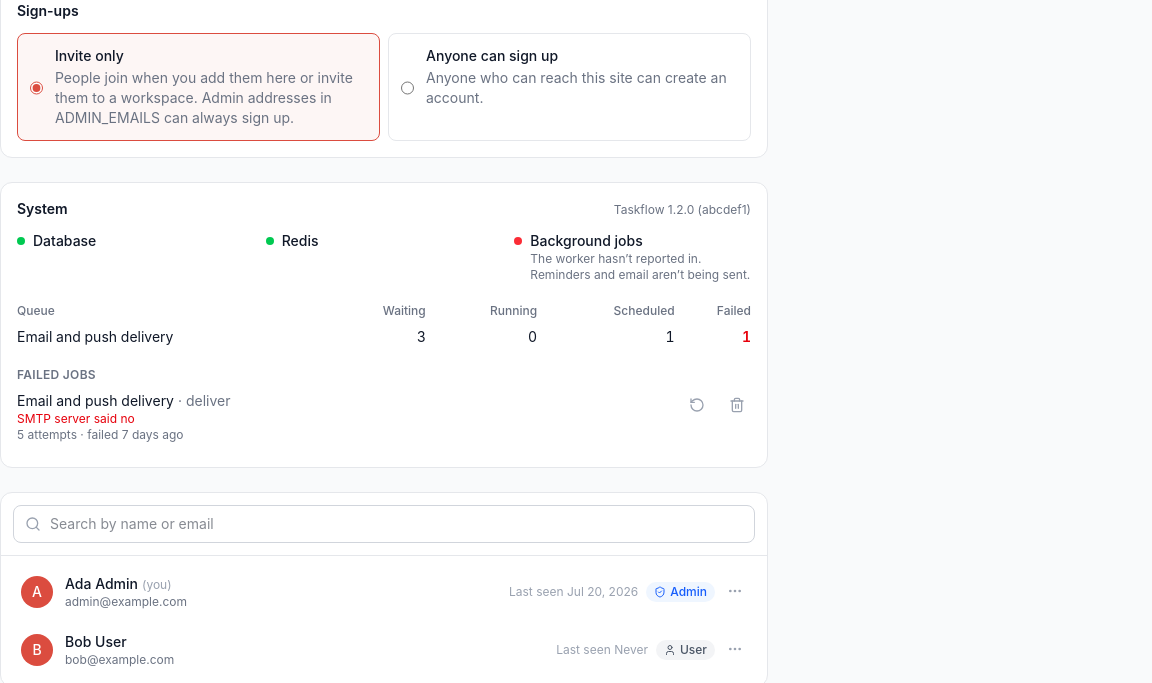
Scenario: user actions › shows a generated password once after a reset
(page scrolled)
Expected: the text "Bob User" is shown, [65, 633, 127, 650]
Click the button named "Actions for Bob User" at (735, 649), box [723, 637, 747, 661]
(page scrolled)
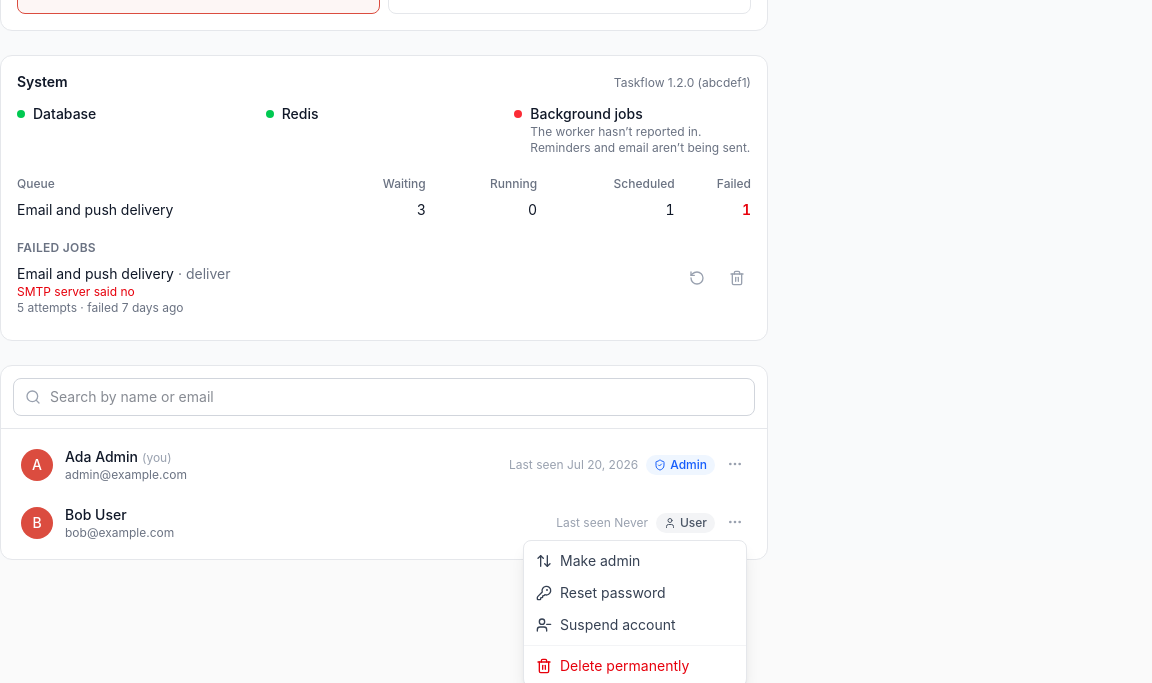
Click the button "Reset password" at (635, 593), box [524, 577, 746, 609]
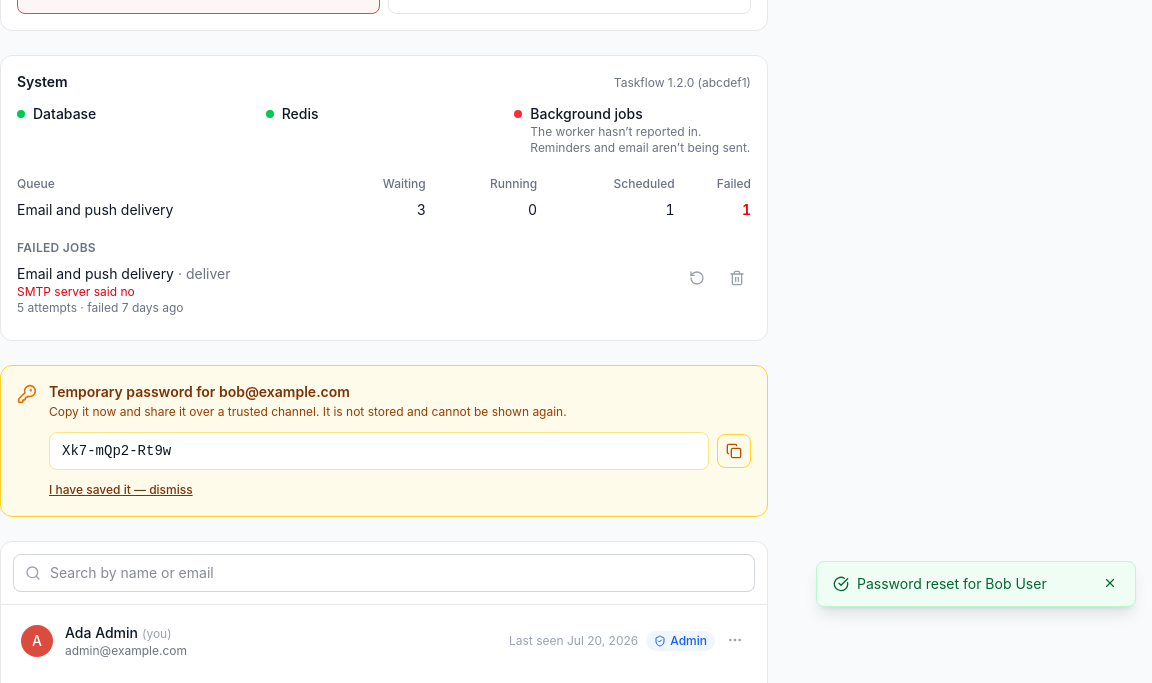
Expected: the text with test id "temporary-password" reads "Xk7-mQp2-Rt9w", [62, 443, 171, 459]
Click the button "I have saved it — dismiss" at (121, 490), box [49, 482, 193, 498]
(page scrolled)
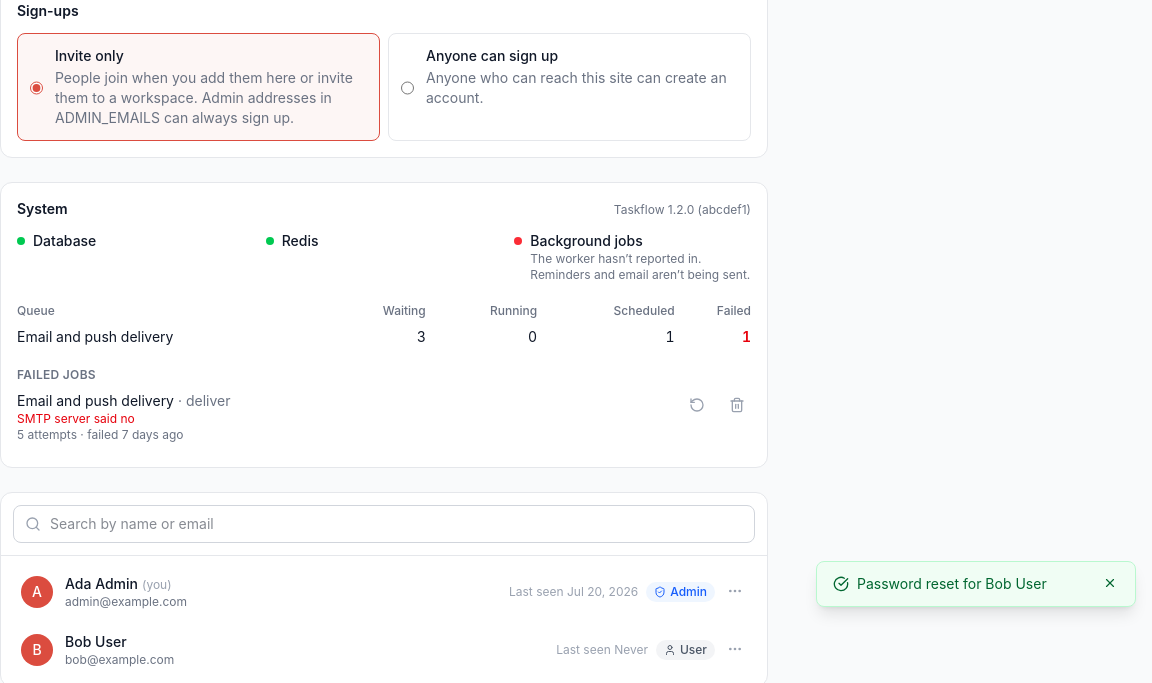
Expected: the text with test id "temporary-password" is gone
